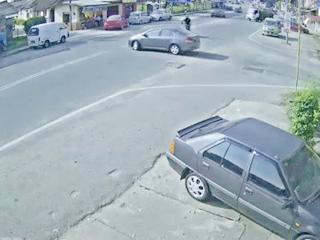Car: (171, 112, 319, 240), (128, 27, 201, 56), (27, 20, 70, 47), (105, 15, 127, 29), (152, 9, 173, 23), (129, 10, 150, 23)
Motor: (182, 13, 194, 33)
